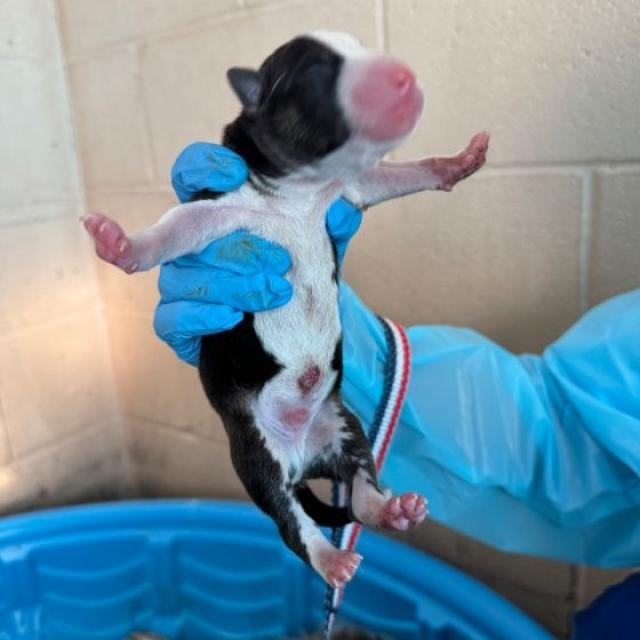siberian_husky_dog: (209, 25, 436, 211)
